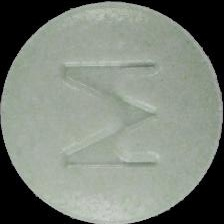0378-2076: (0, 0, 224, 224)
